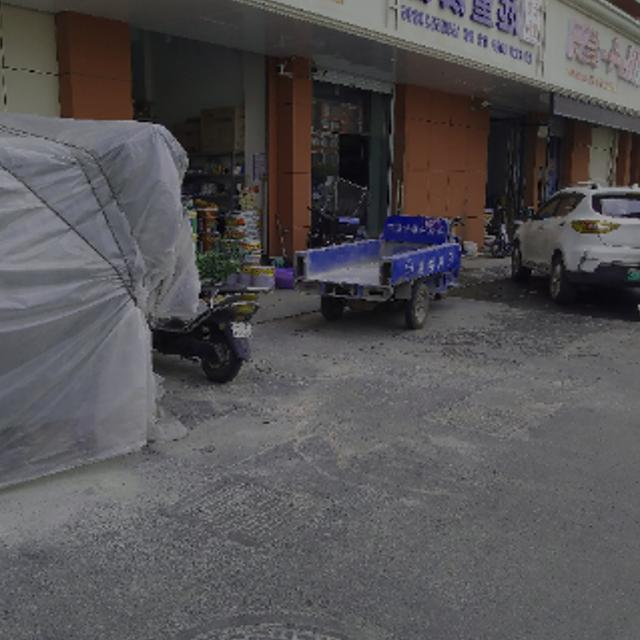broke: (121, 613, 438, 640)
